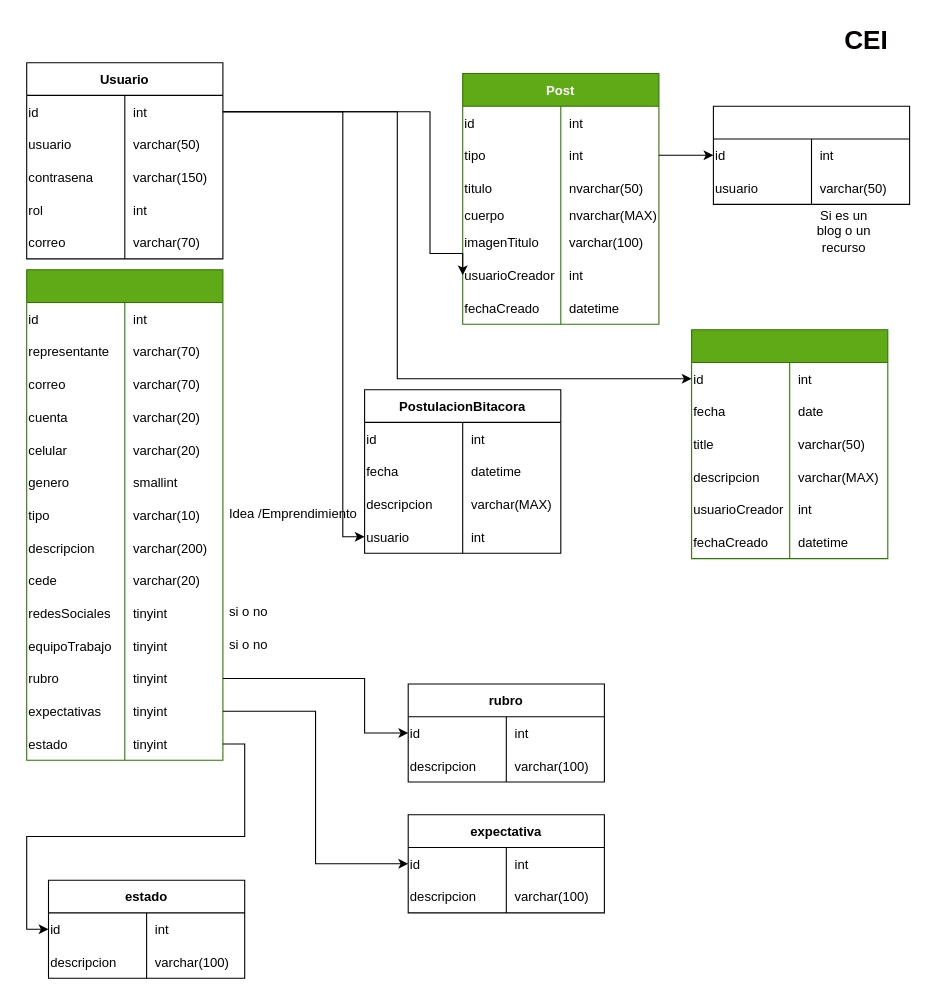
Image size: 940x997. Some labels were removed from this diagram. The box of each missing label's shape, as (x1, y1, x2, y2) in pixels:
Eventos: (691, 329, 888, 559)
Postulacion: (26, 269, 223, 760)
TipoPost: (712, 105, 910, 204)
